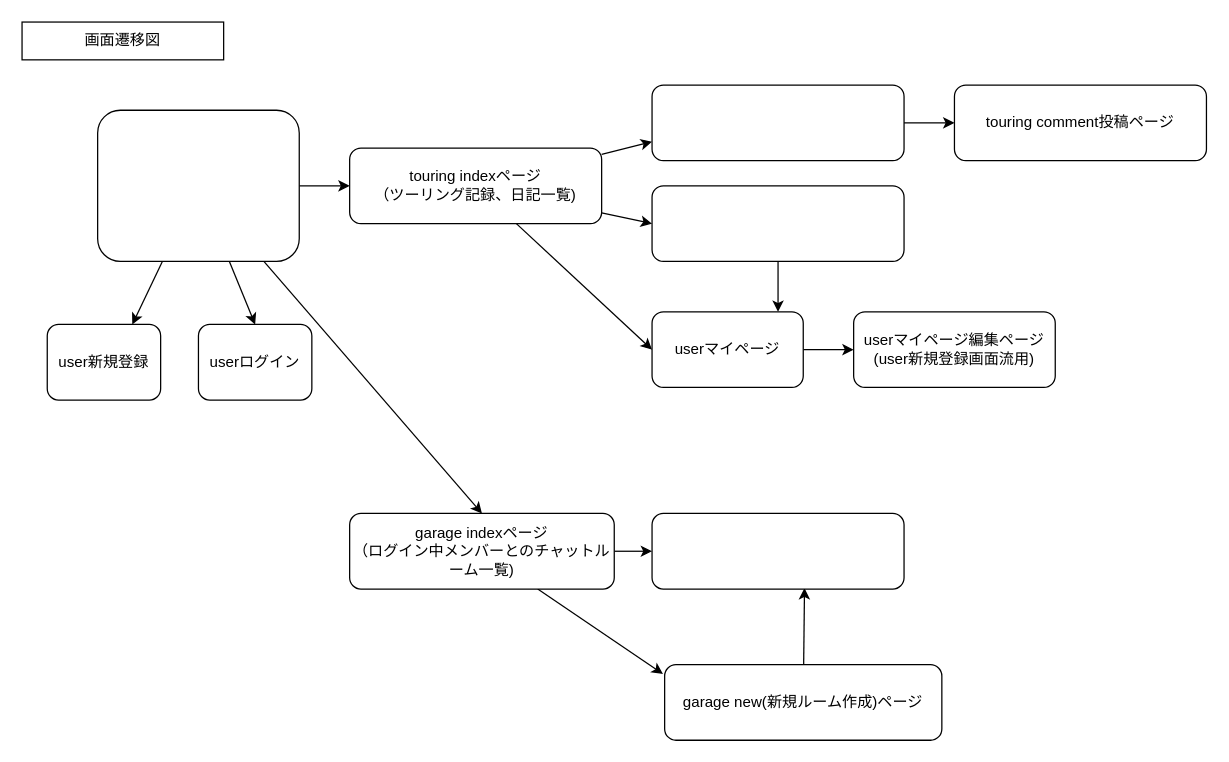
The diagram is 1229 pixels wide and 762 high, and some of its shapes have lost their labels. The box of each missing label's shape, as (x1, y1, x2, y2) in pixels:
garage show （チャットを行う）: (651, 512, 904, 589)
topページ: (96, 109, 299, 261)
他者のtouring show(詳細)ページ: (651, 84, 904, 161)
自身のtouring new(作成)ページ: (651, 185, 904, 261)
